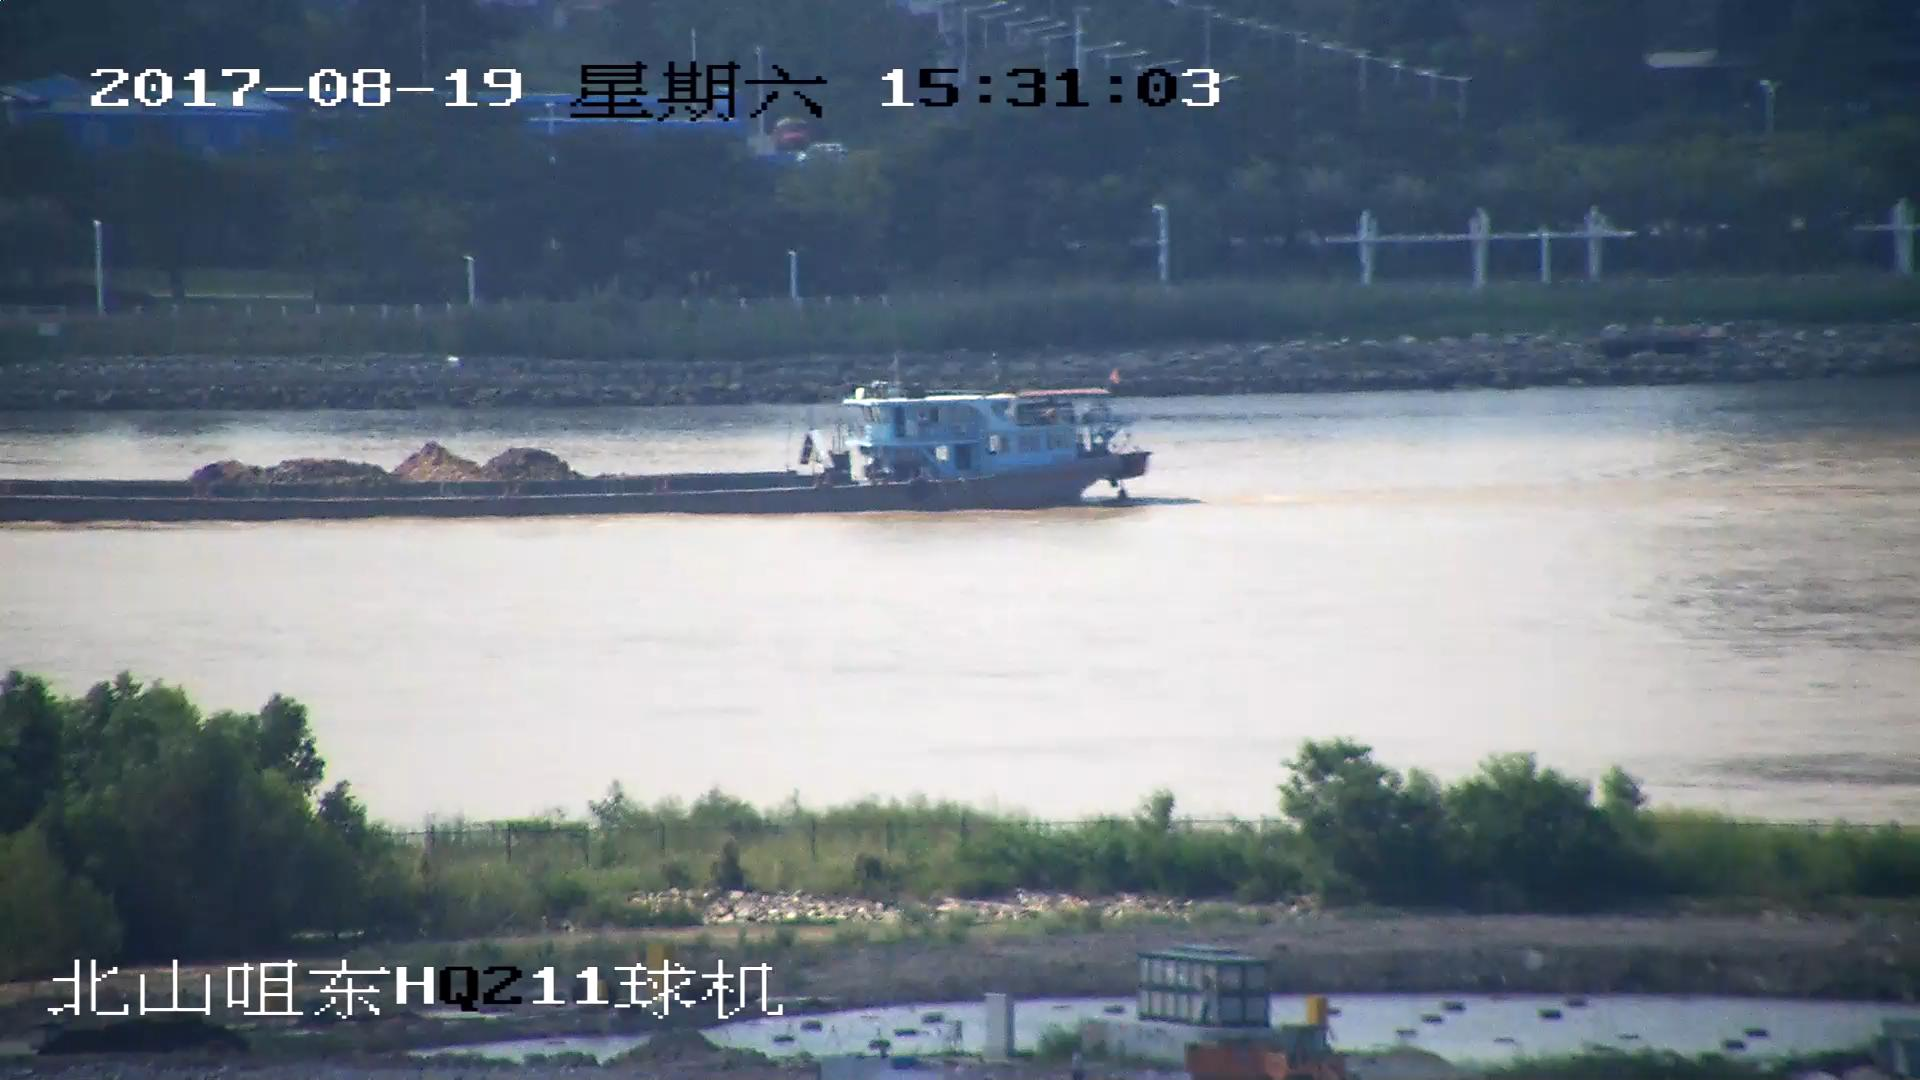ore carrier: (1, 385, 1152, 522)
